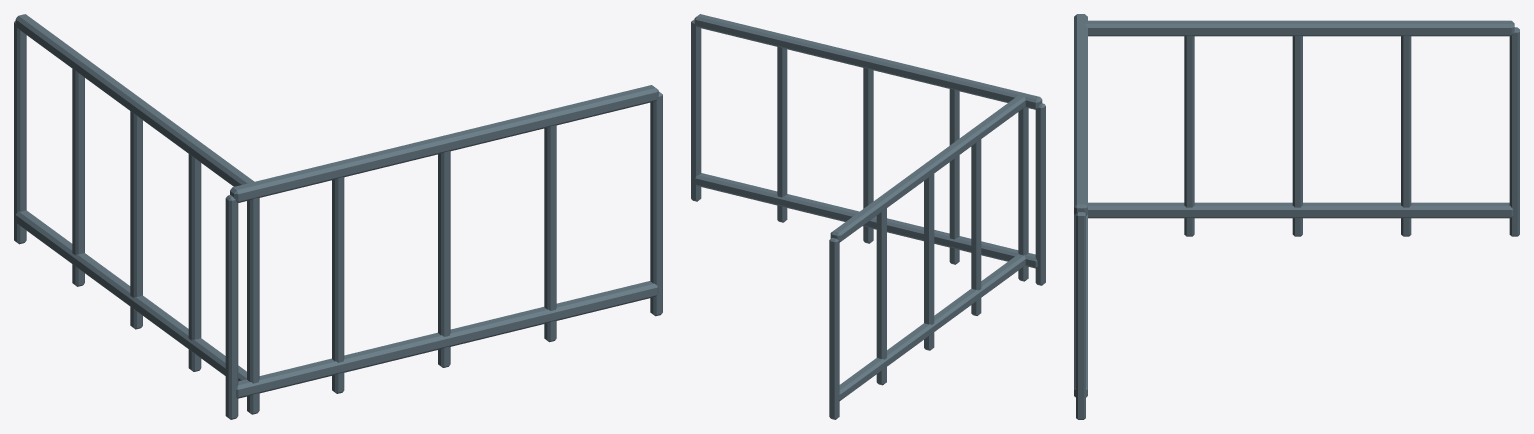
The model's file is architecture-railing-corner.lod0.glb.
3 renders of one model, left to right at view 1: azimuth 30°, elevation 25°; view 2: azimuth 150°, elevation 25°; view 3: azimuth 270°, elevation 25°, orthographic. The views are drawn at different scales.
Parts seen in each view (by area): view 1: architecture-railing-corner__body; view 2: architecture-railing-corner__body; view 3: architecture-railing-corner__body.
Boxes of the visible parts, x1=… form: architecture-railing-corner__body: x1=14, y1=14, x2=662, y2=419; architecture-railing-corner__body: x1=691, y1=14, x2=1045, y2=419; architecture-railing-corner__body: x1=1074, y1=14, x2=1519, y2=419.
Bounding box in the file's own units: 2.05 × 1.03 × 1.95.
